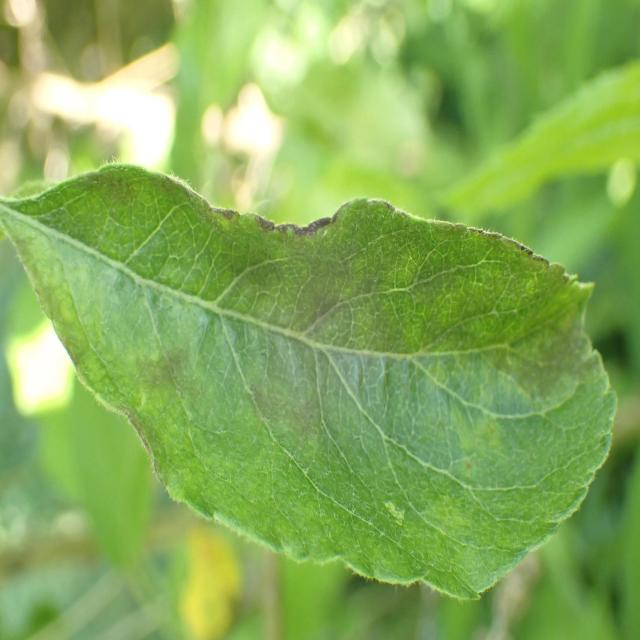scab: (8, 143, 613, 541)
